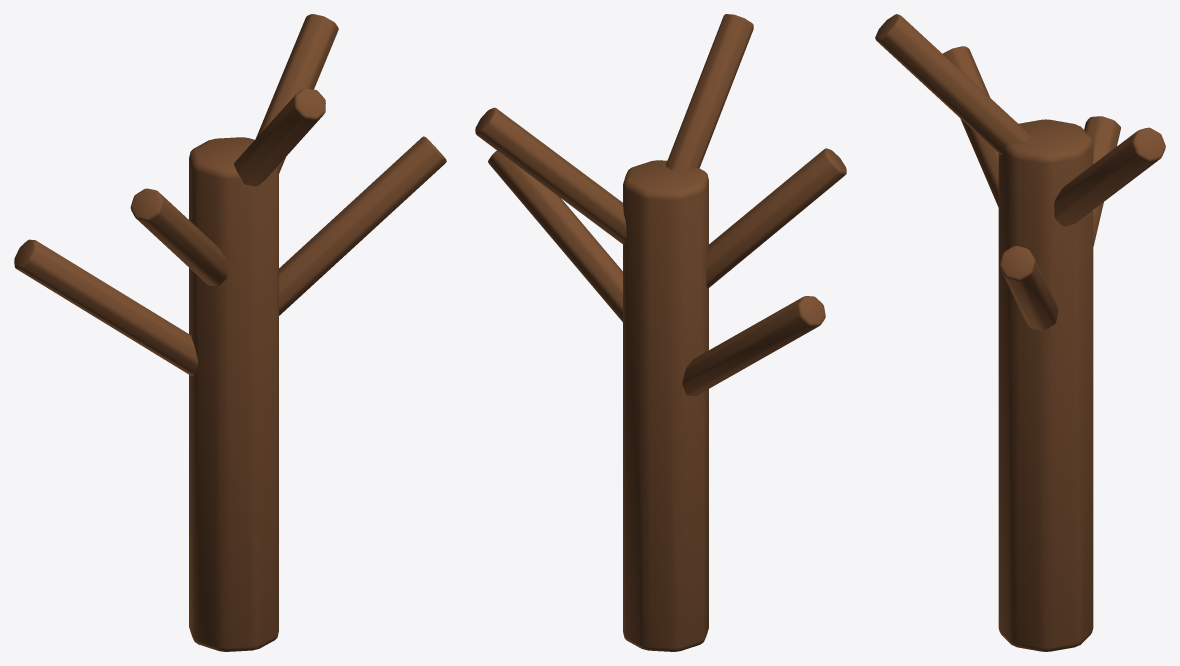
The model's file is dead_tree.glb.
3 views of the same model, side by side, from view 1: azimuth 30°, elevation 25°; view 2: azimuth 150°, elevation 25°; view 3: azimuth 270°, elevation 25° (orthographic). The views are drawn at different scales.
Parts seen in each view (by area): view 1: dead_tree_bark; view 2: dead_tree_bark; view 3: dead_tree_bark.
Boxes of the visible parts, bbox=[...] form: dead_tree_bark: bbox=[14, 14, 446, 651]; dead_tree_bark: bbox=[475, 14, 846, 651]; dead_tree_bark: bbox=[875, 14, 1165, 651].
Size of the model in its own units: 3.19 by 4.72 by 2.01.
